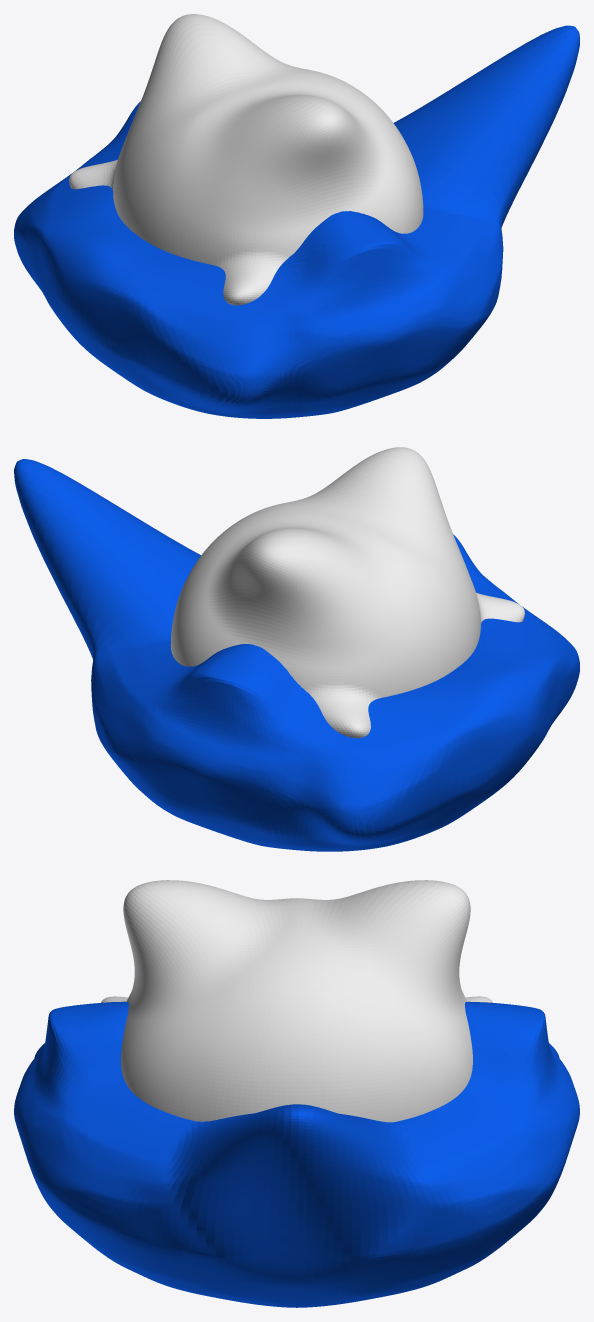
Rendered from cat-ship.fbx.
3 views of the same model, one above another, from view 1: azimuth 30°, elevation 25°; view 2: azimuth 150°, elevation 25°; view 3: azimuth 270°, elevation 25° (orthographic). The views are drawn at different scales.
Parts seen in each view (by area): view 1: Quad Sphere; view 2: Quad Sphere; view 3: Quad Sphere.
Boxes of the visible parts, x1=… form: Quad Sphere: x1=14, y1=14, x2=579, y2=418; Quad Sphere: x1=14, y1=447, x2=579, y2=851; Quad Sphere: x1=14, y1=880, x2=579, y2=1307.
Size of the model in its own units: 597 by 363 by 494.
